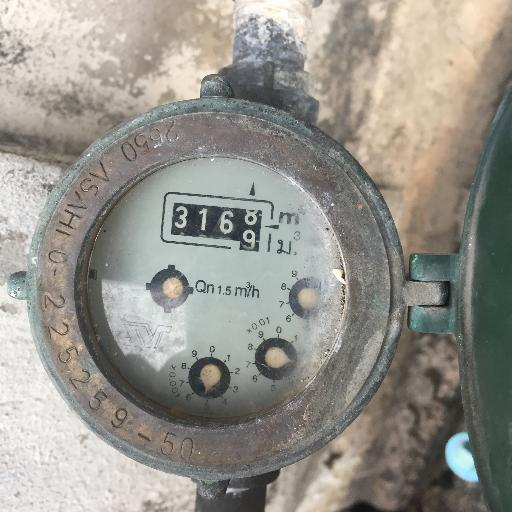1: (192, 204, 216, 239)
3: (171, 202, 195, 237)
6: (214, 207, 243, 242)
8: (239, 208, 262, 252)
border_water_meter_number: (160, 191, 275, 254)
